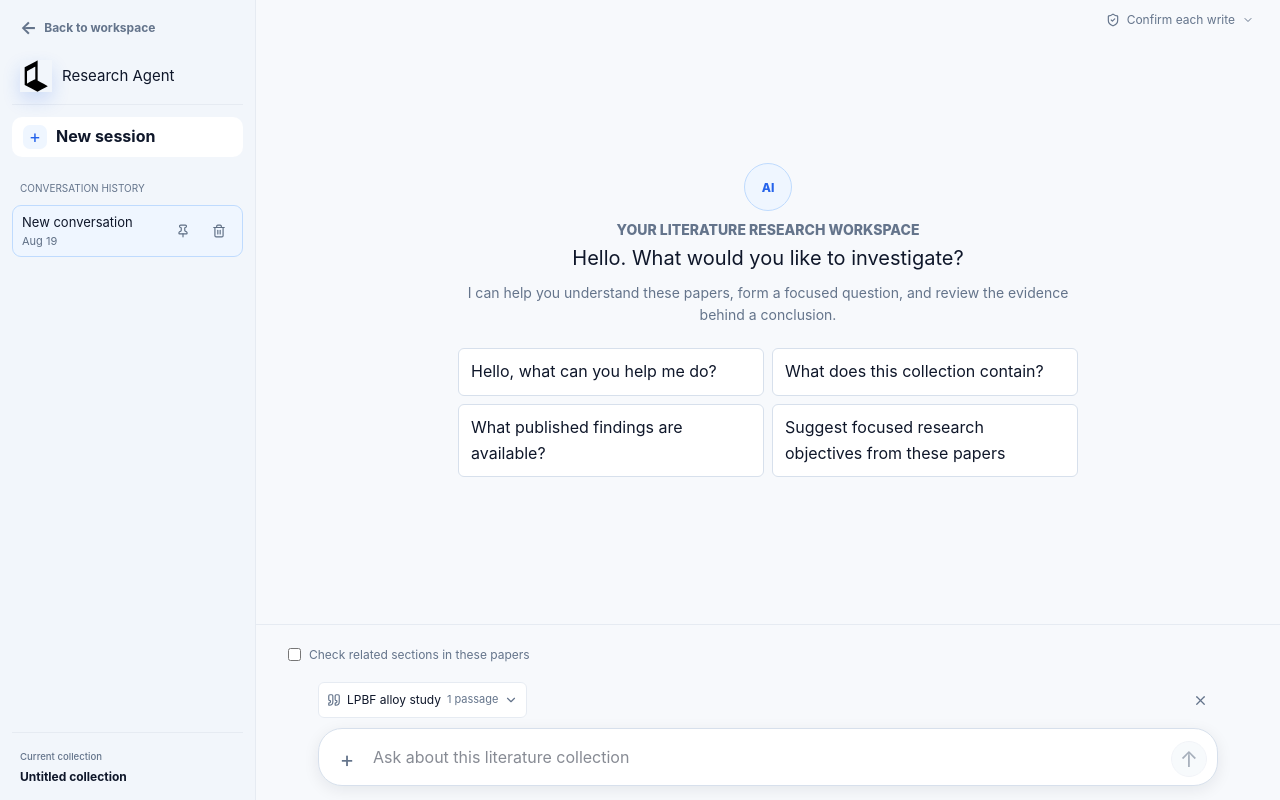
Scenario: collections/[id]/assistant Research Agent › consumes Source handoff only when recovery confirms persistence: false
The image size is (1280, 800).
In the text box named "Message": (768, 757) x1=373 y1=737 x2=1163 y2=777, type "Explain this grain-size result"
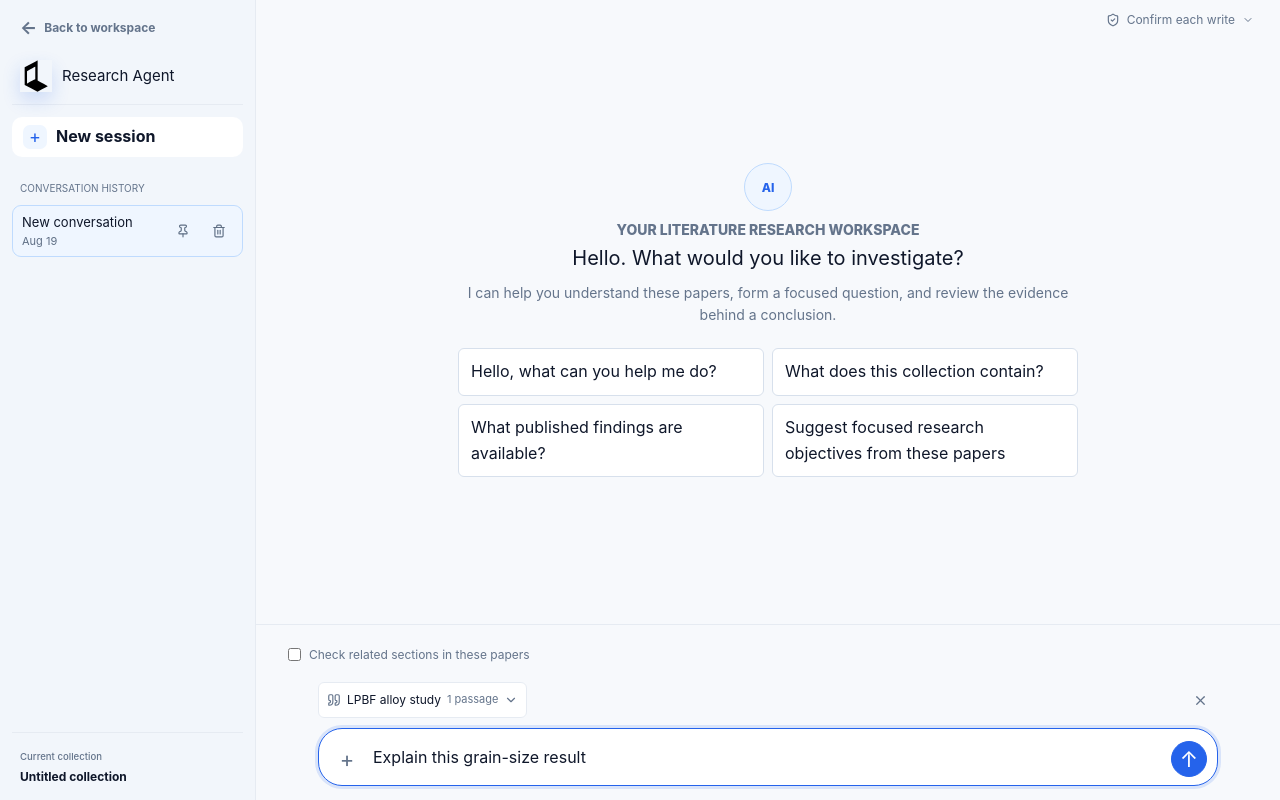
Click the button named "Send": (1189, 759) x1=1171 y1=741 x2=1207 y2=777
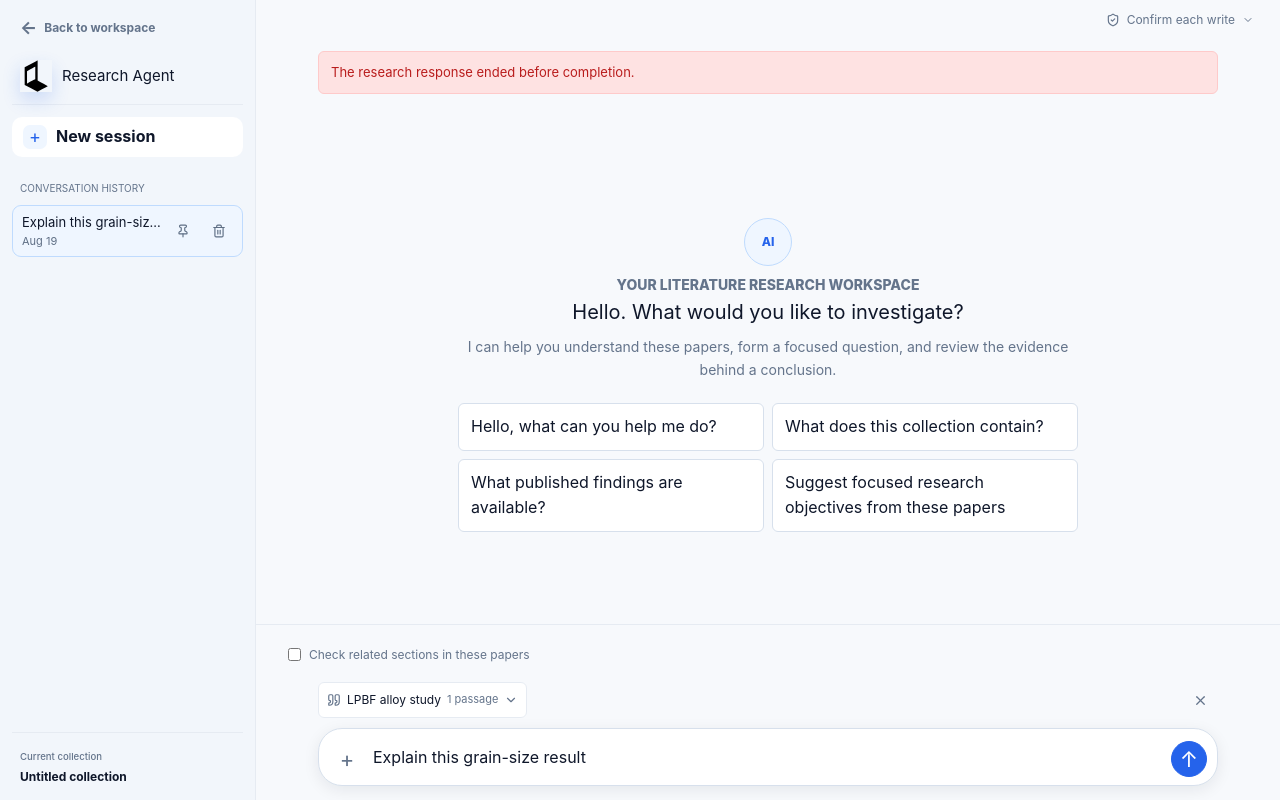
Expected: the text box named "Message" is enabled, x1=373 y1=737 x2=1163 y2=777
Expected: the message "The research response ended before completion." is shown, x1=318 y1=51 x2=1218 y2=94
